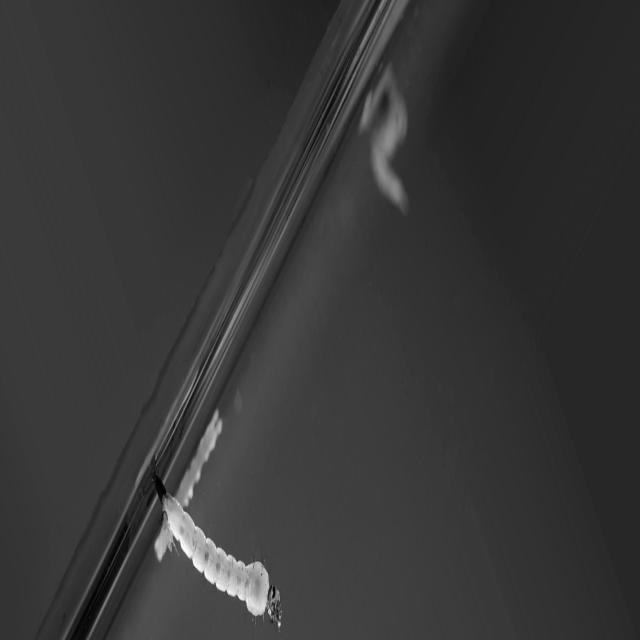larvas: (147, 460, 284, 640), (177, 405, 227, 511), (370, 99, 406, 214)
